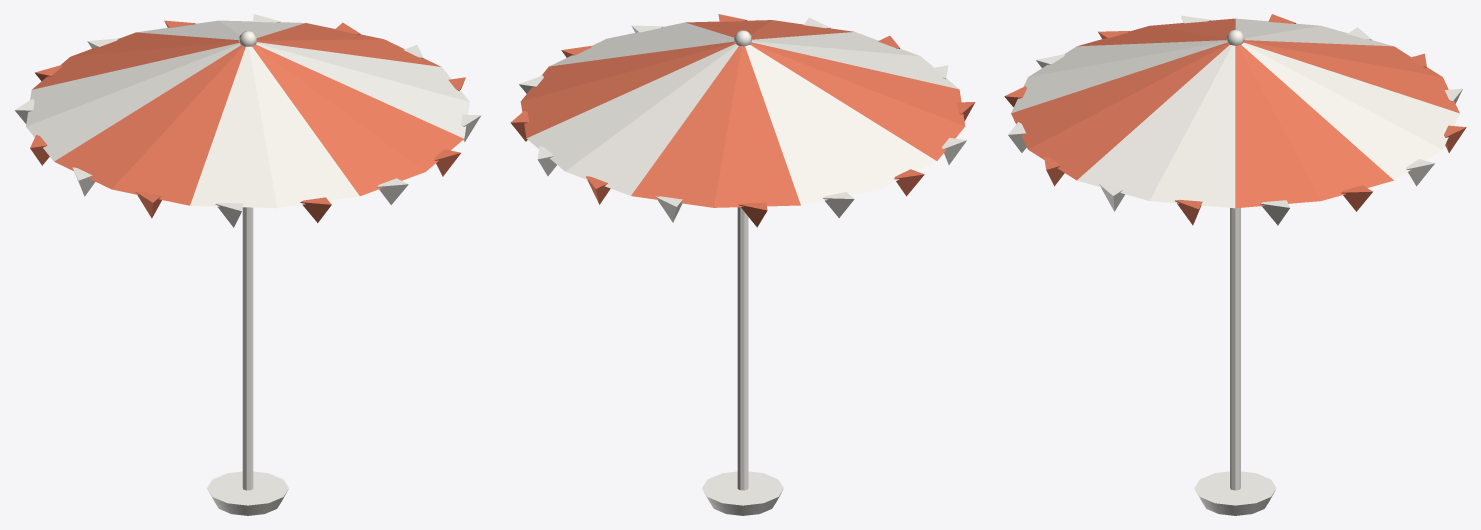
The model's file is b_parasol_coral.gltf.
3 views of the same model, side by side, from view 1: azimuth 30°, elevation 25°; view 2: azimuth 150°, elevation 25°; view 3: azimuth 270°, elevation 25° (orthographic).
Visible parts, largest first — view 1: b_parasol_coral; view 2: b_parasol_coral; view 3: b_parasol_coral.
Part boxes in pixels (x1,y1,x2,y2): b_parasol_coral: (14, 14, 481, 515); b_parasol_coral: (510, 14, 975, 515); b_parasol_coral: (1004, 14, 1466, 515).
Size of the model in its own units: 2.47 by 2.78 by 2.47.
Materials: 1 (1 with a texture image).
